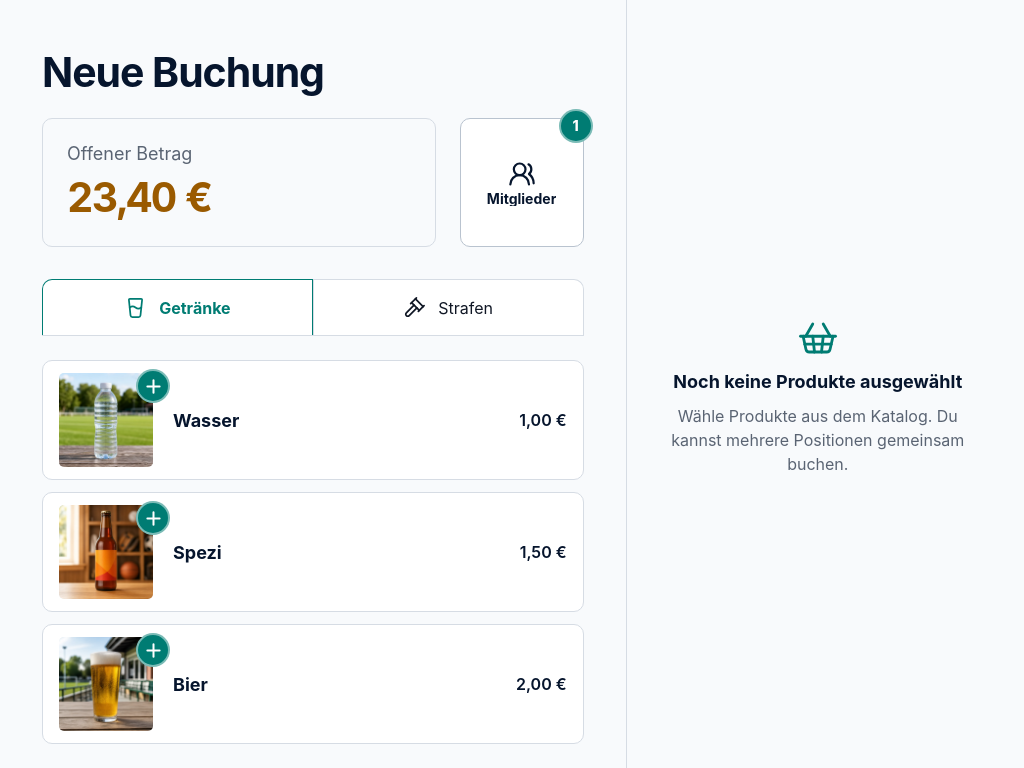
Test case: BookingPage multi-product workspace › decreases and removes a selected product directly from its catalogue card
This screenshot has width=1024, height=768.
Click the button "W Wasser 1,00 €": [106, 420] box [43, 361, 583, 479]
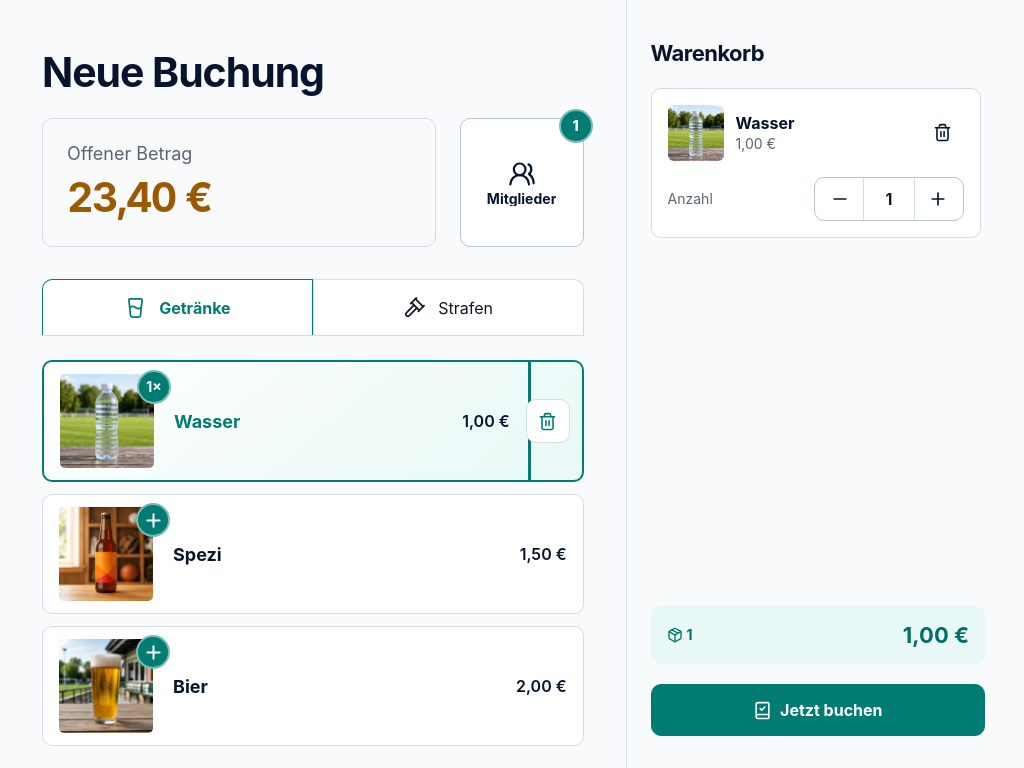
Click the button "W Wasser 1,00 € 1×": [107, 421] box [44, 362, 526, 480]
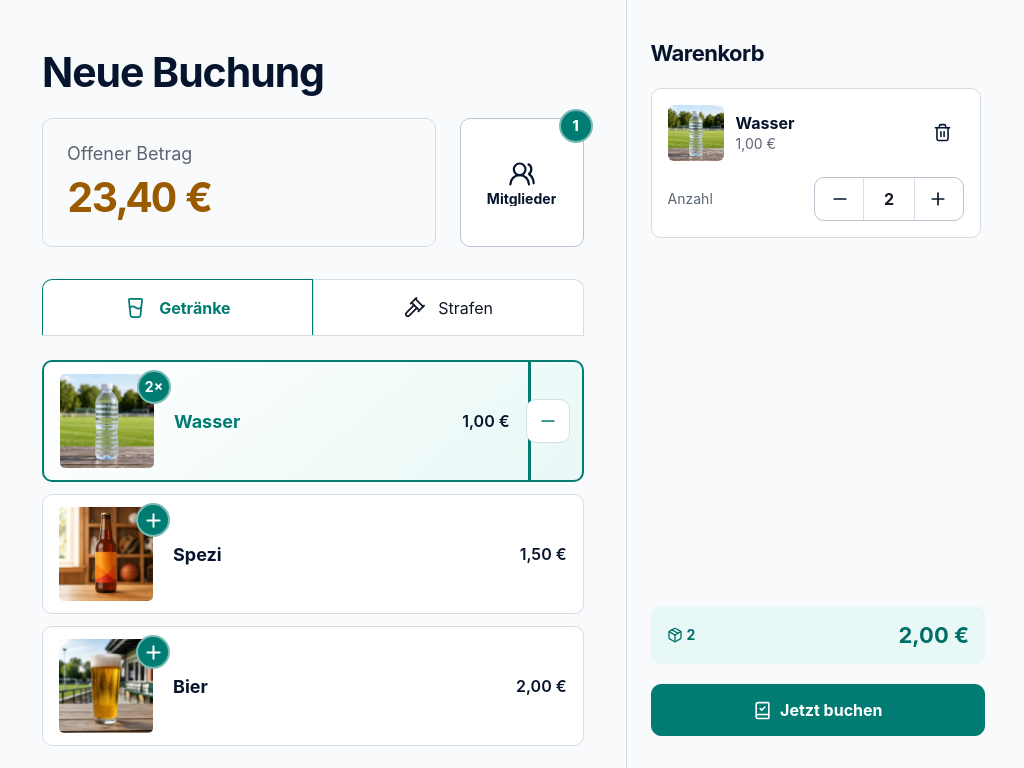
Click the button named "Anzahl von Wasser verringern" below "Neue Buchung": [548, 421] box [526, 399, 570, 443]
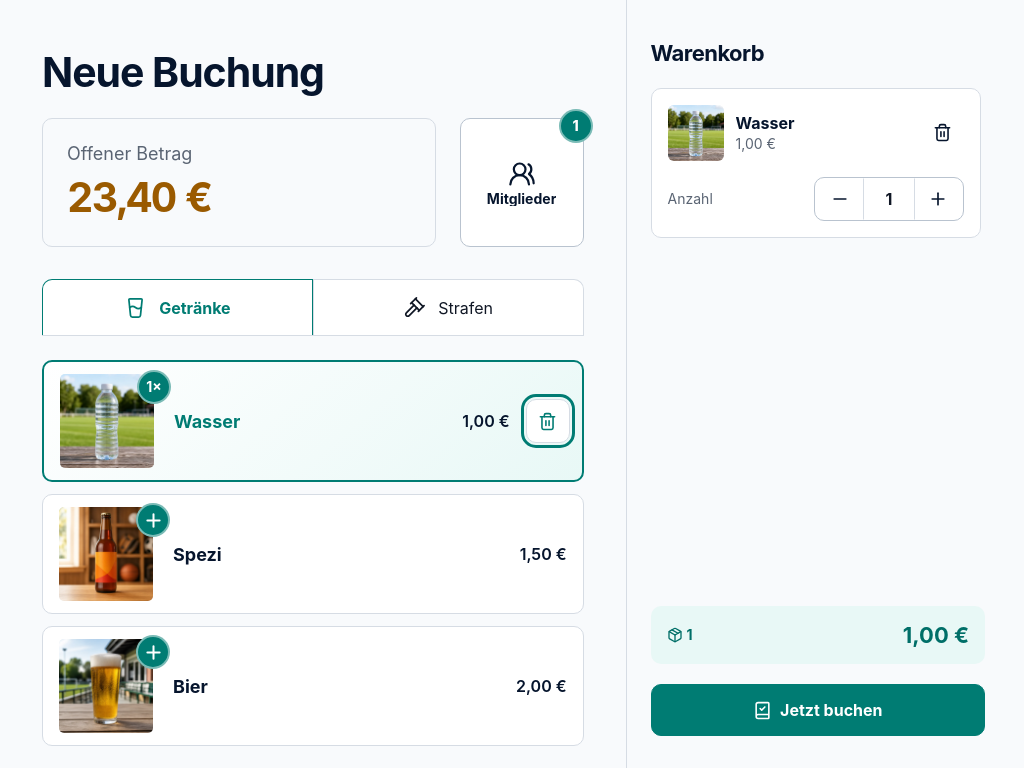
Check: the button "W Wasser 1,00 € 1×" is shown, box [44, 362, 526, 480]
Click the button named "Wasser aus dem Warenkorb entfernen" below "Neue Buchung": [548, 421] box [526, 399, 570, 443]
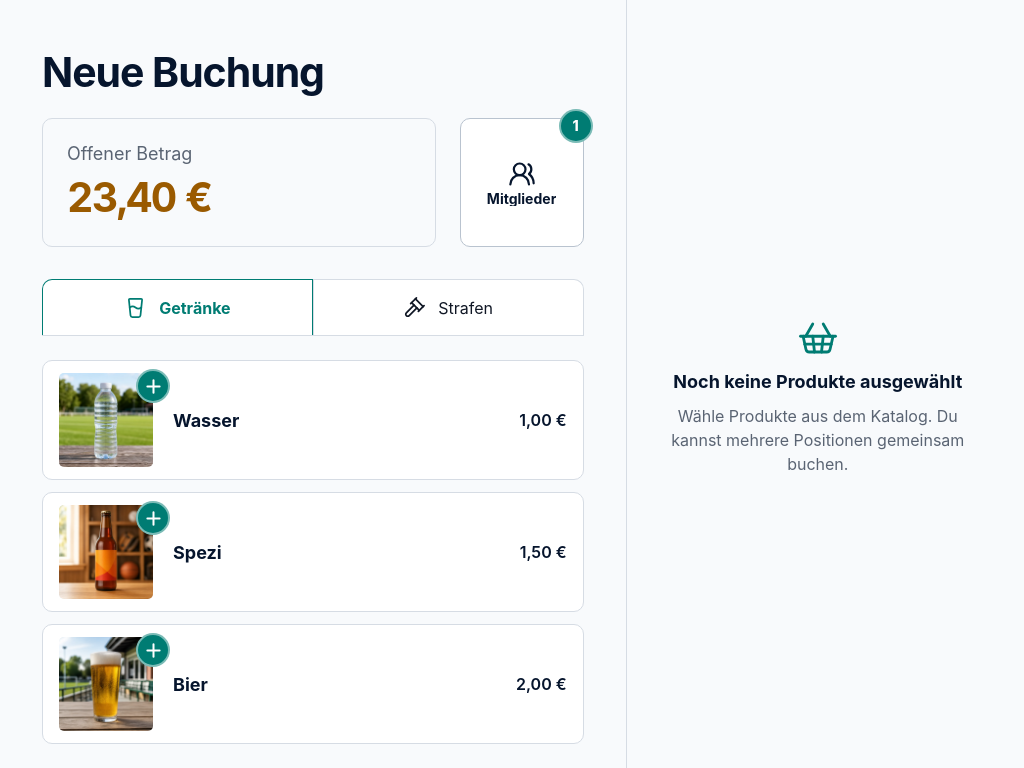
Check: the button "W Wasser 1,00 €" is shown, box [43, 361, 583, 479]
Check: the button "Jetzt buchen" is gone
